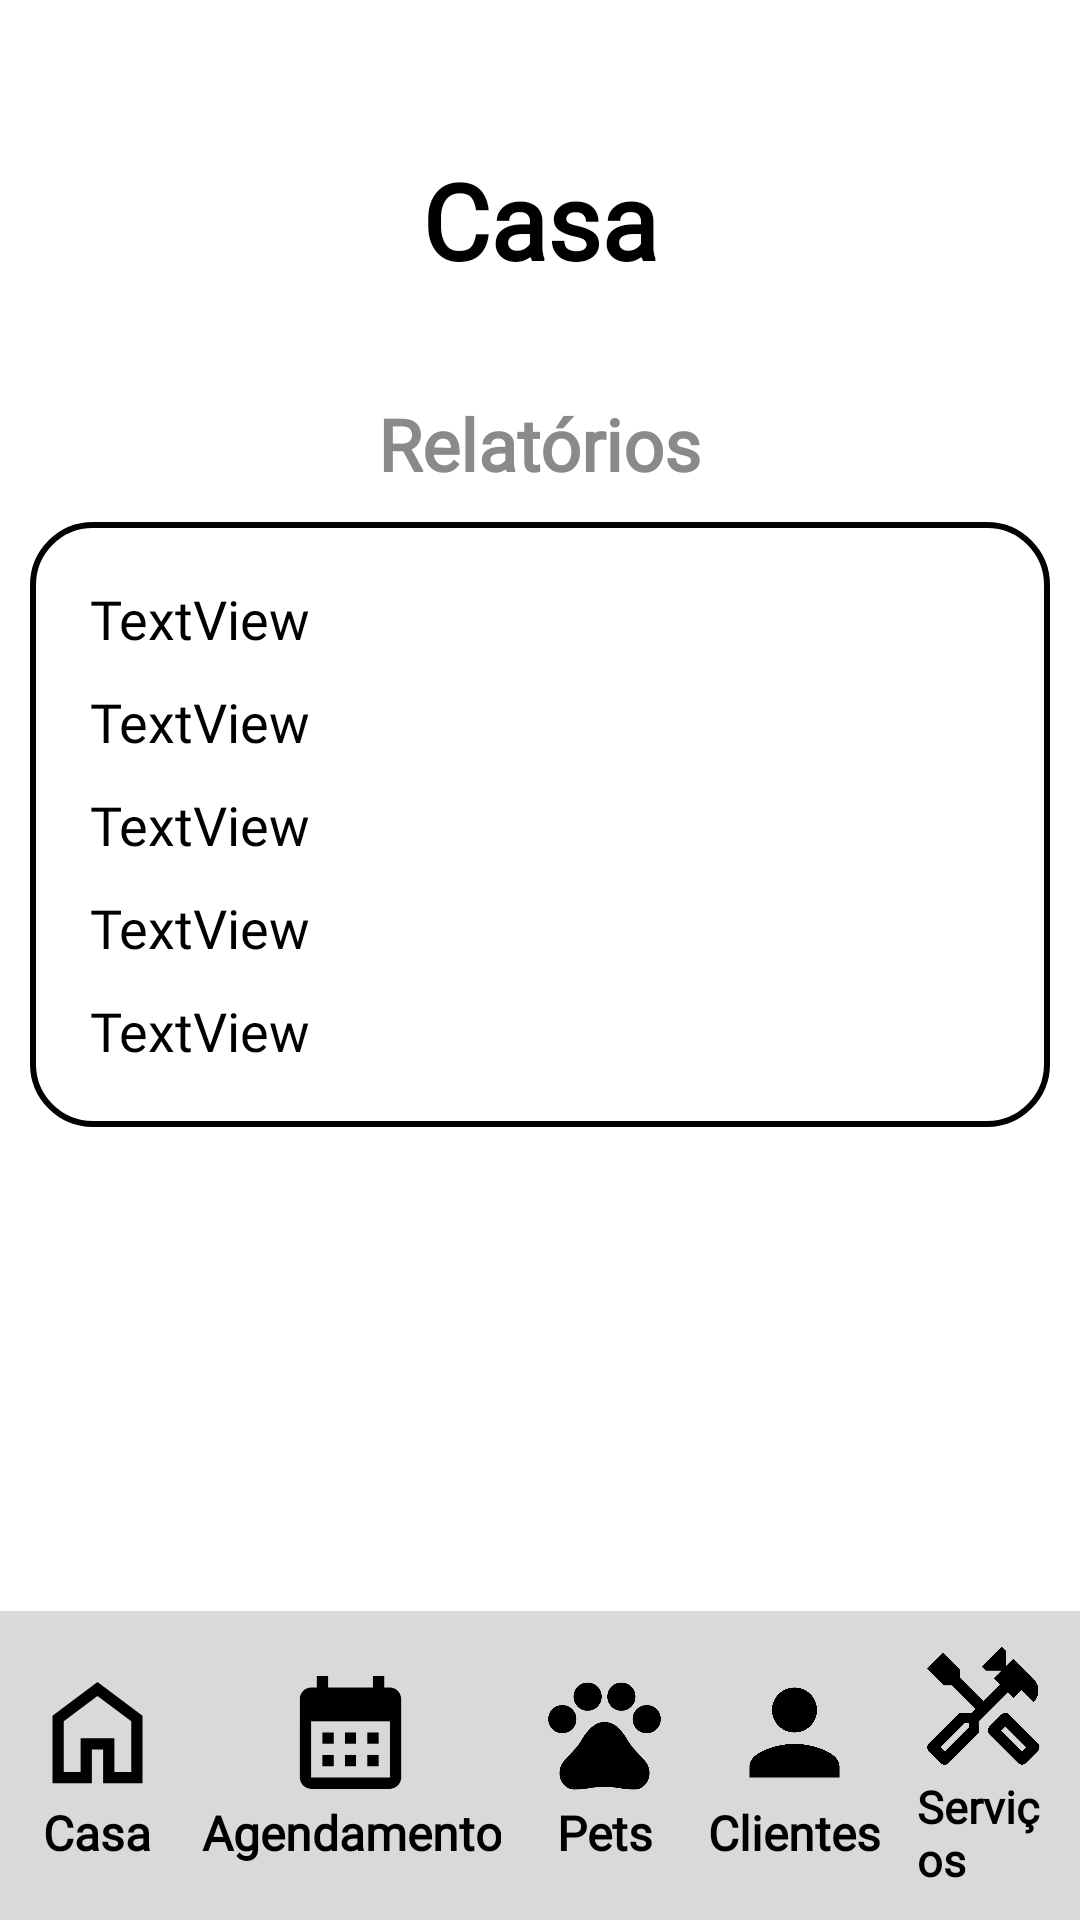

Named icons in this screenshot (1080w x 1920h) and their bounding boxes, rect(x1, y1, x2, y2):
calendar month: rect(299, 1676, 402, 1789)
person: rect(749, 1687, 840, 1778)
